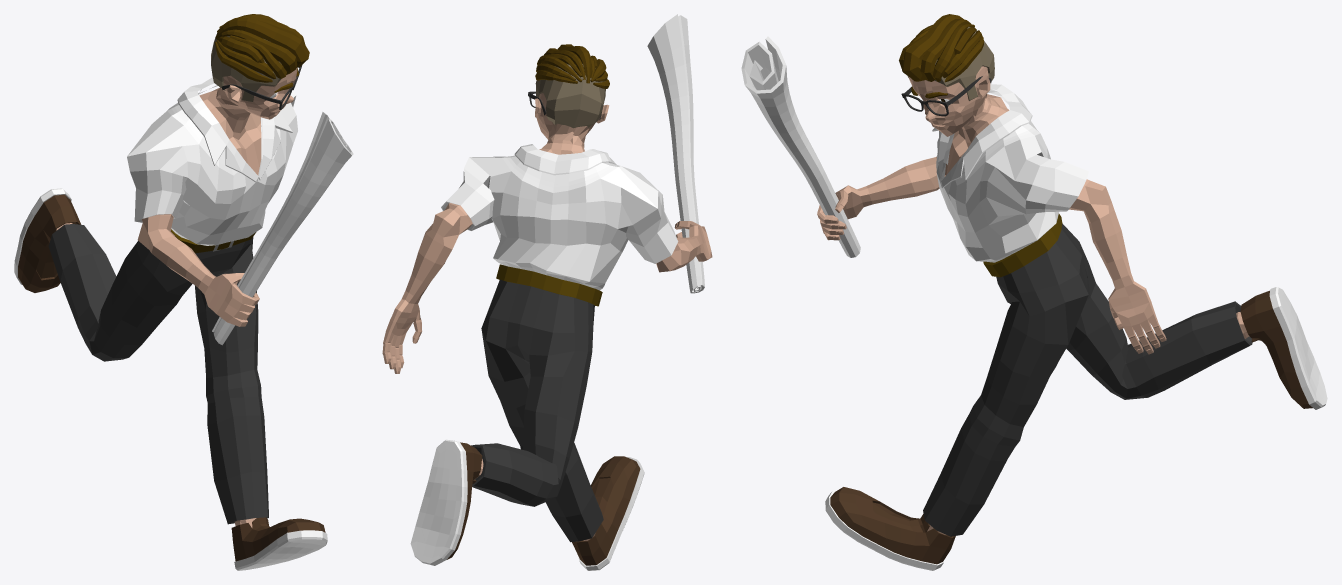
Rendered from Luis Character Model - Main 2.glb.
3 views of the same model, side by side, from view 1: azimuth 30°, elevation 25°; view 2: azimuth 150°, elevation 25°; view 3: azimuth 270°, elevation 25° (orthographic). The views are drawn at different scales.
Bounding box in the file's own units: 8.59 × 21.55 × 20.66.
